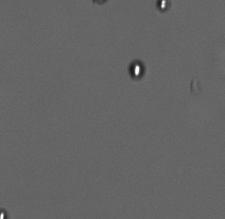Living Cell: (129, 61, 146, 79), (155, 1, 172, 12), (1, 208, 6, 219)
